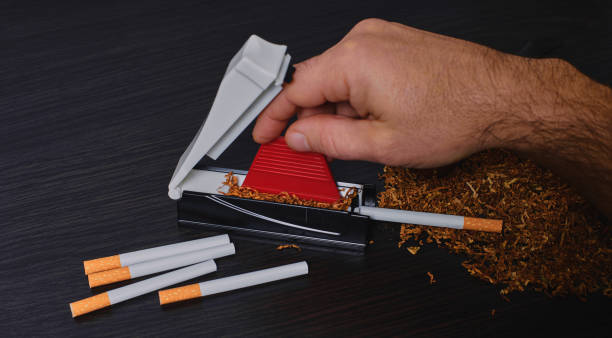cigarette: (69, 259, 217, 318), (86, 242, 236, 289), (157, 260, 310, 306), (82, 232, 230, 275), (353, 203, 509, 236)
